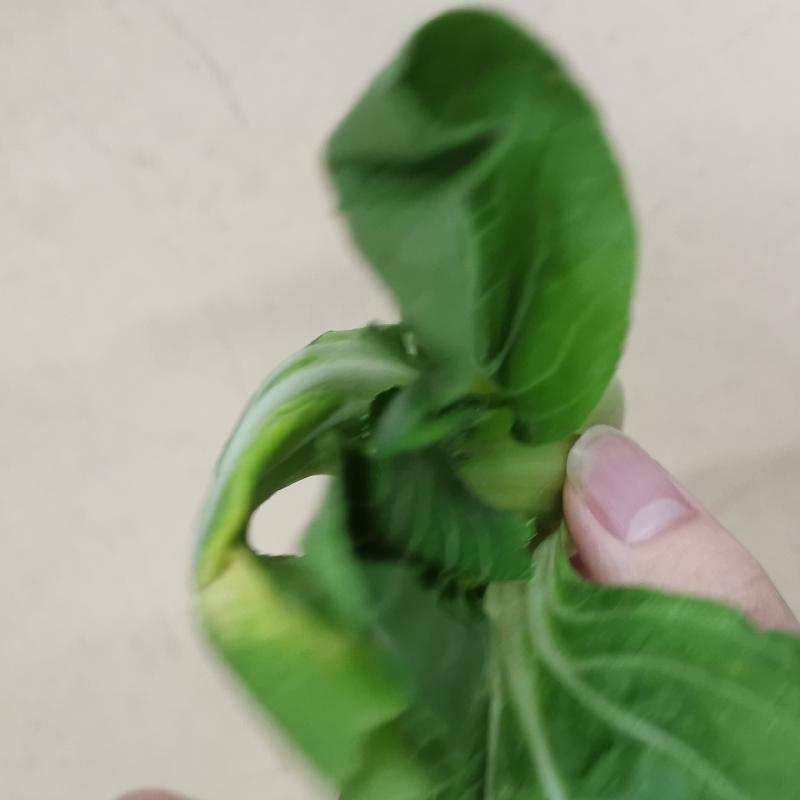green vegatable: (187, 9, 595, 781)
